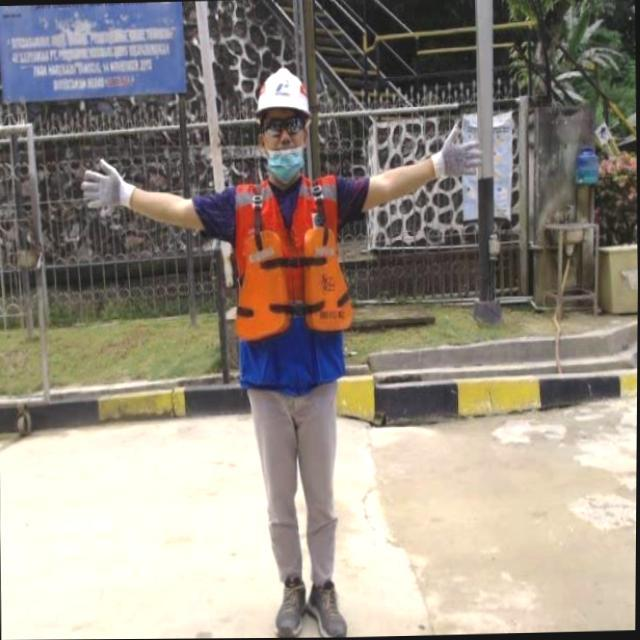goggles_on: (260, 113, 310, 138)
